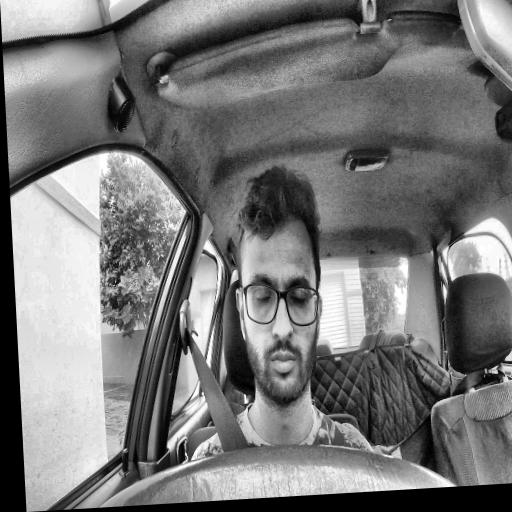drowsy: (229, 162, 328, 406)
